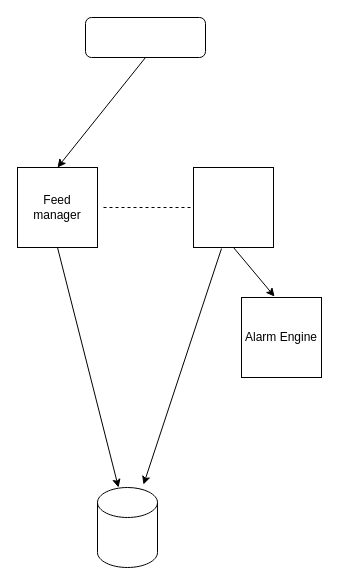
This 339x585 diagram has some shape labels left out. The box of each missing label's shape, as (x1, y1, x2, y2) in pixels:
Analysis Manager: (192, 166, 274, 248)
Device: (84, 16, 206, 58)
